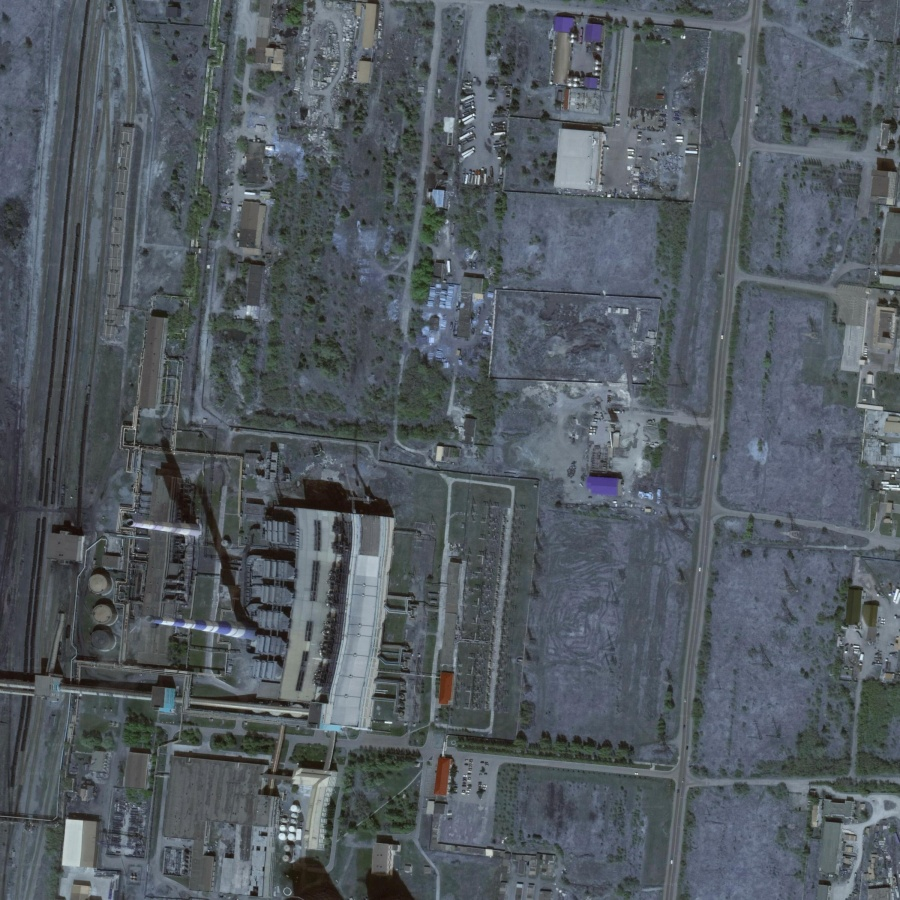PowerPlant: (107, 426, 296, 688)
